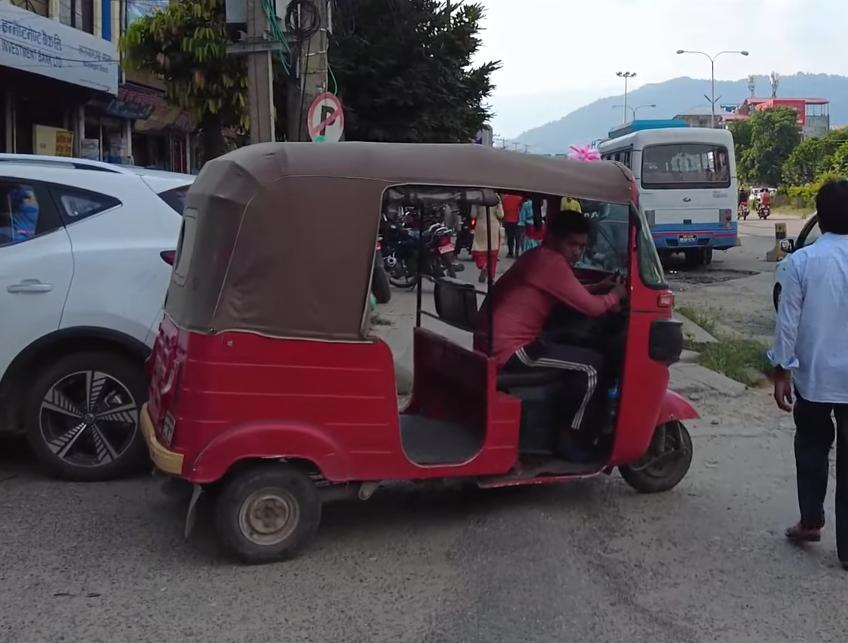auto_rickshaw: (128, 134, 712, 560)
